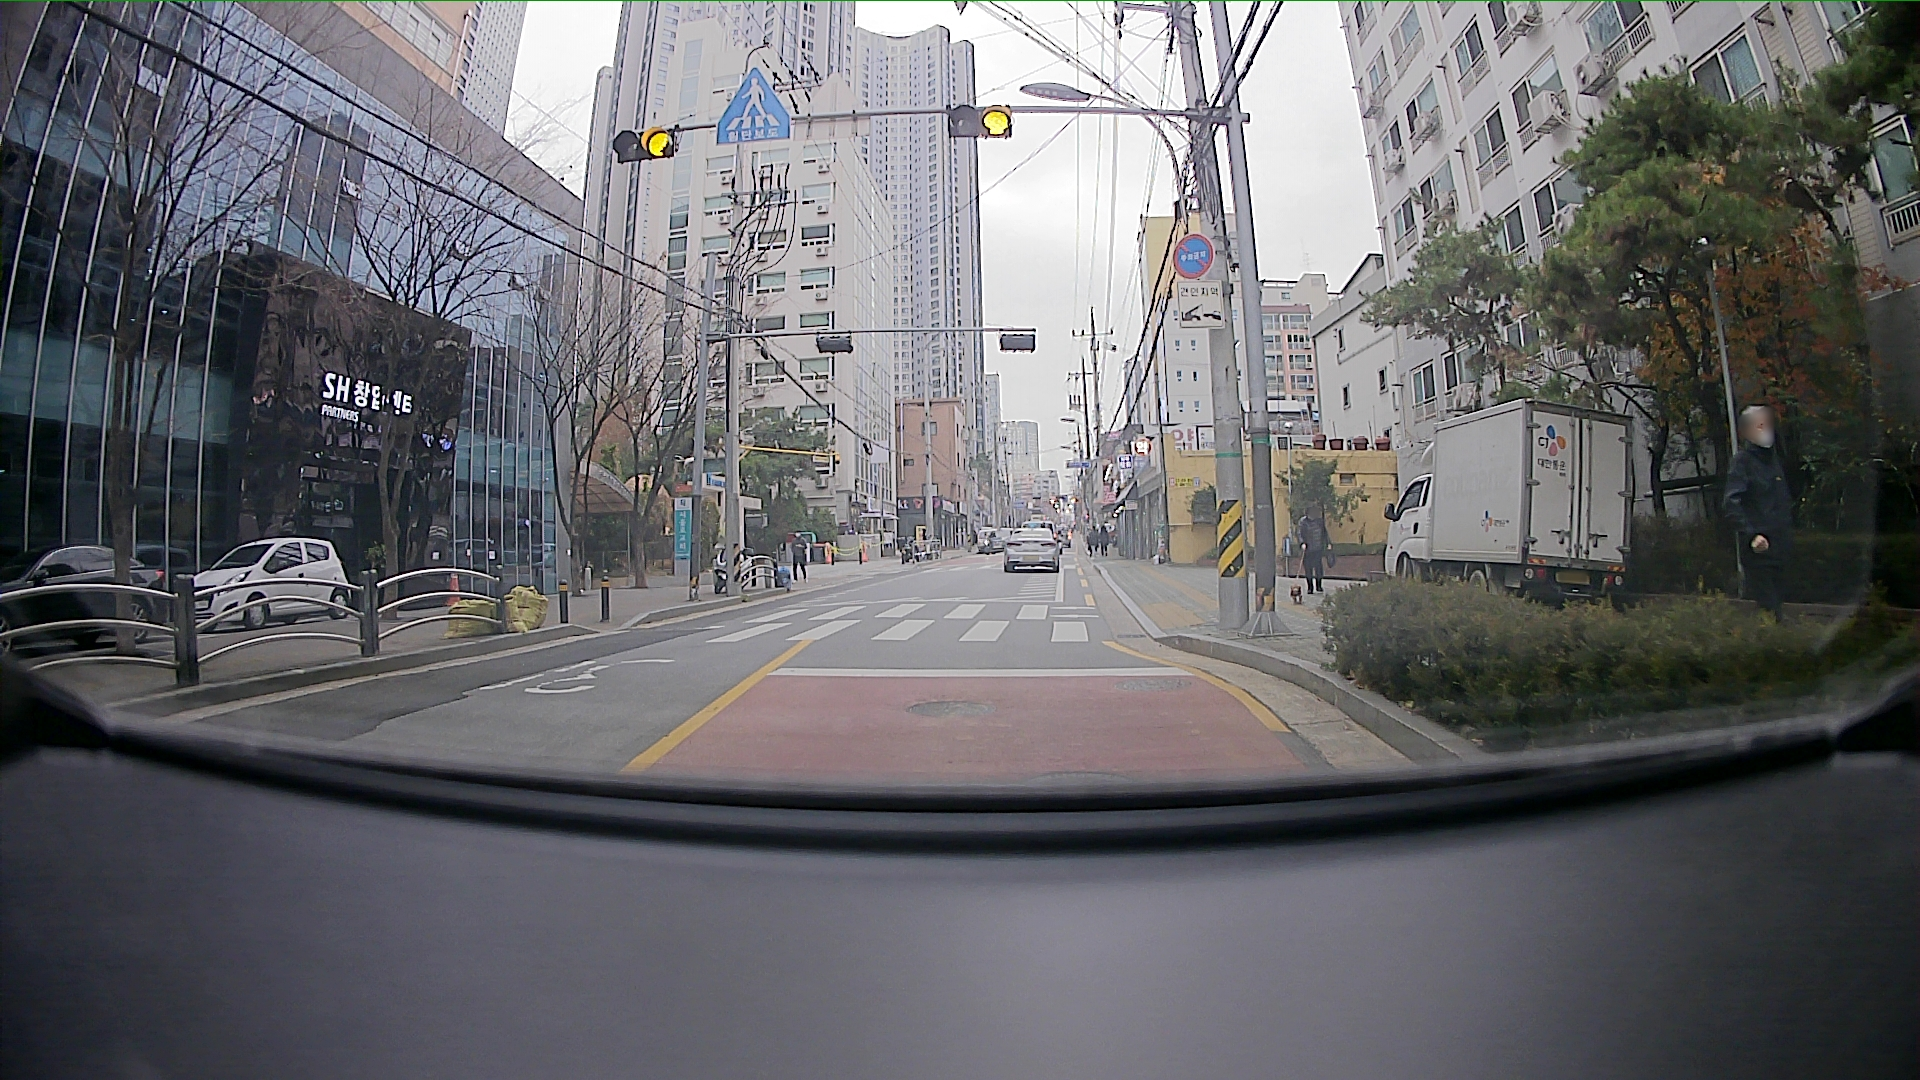trafficLight: (944, 98, 1013, 145), (612, 127, 676, 162)
trafficSignCircle: (1174, 233, 1216, 280)
trafficSignTri: (709, 66, 790, 146)
